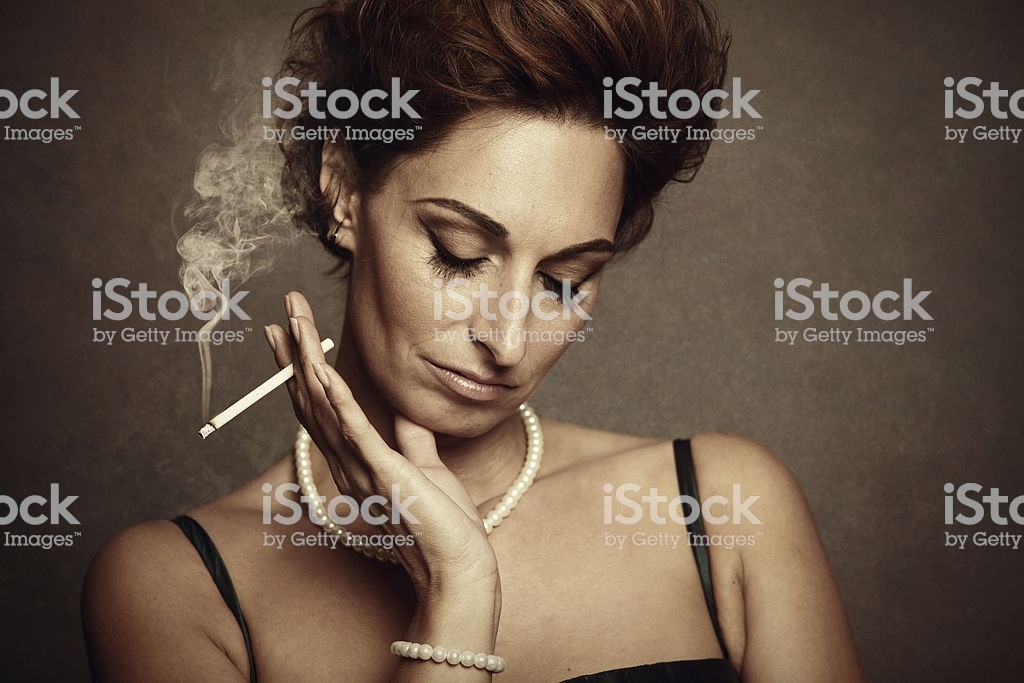sigaretta: (200, 342, 334, 436)
